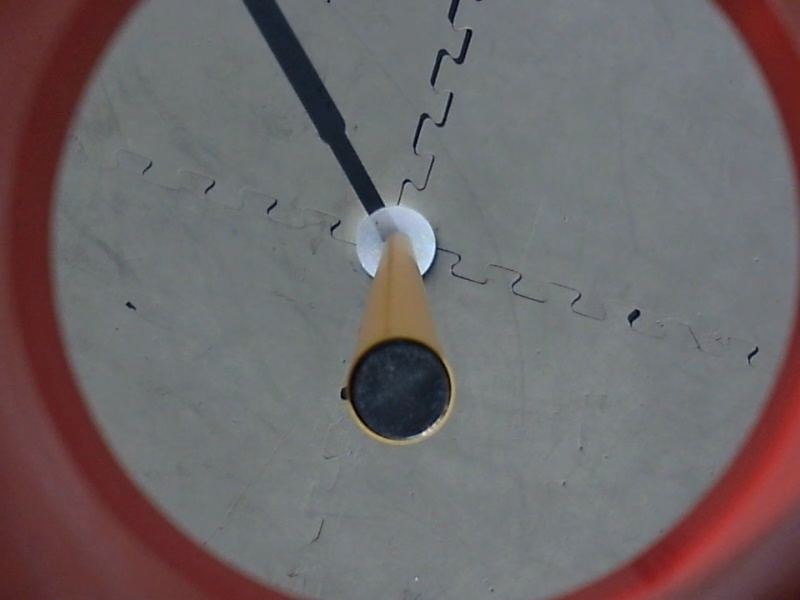tip: (340, 331, 463, 448)
